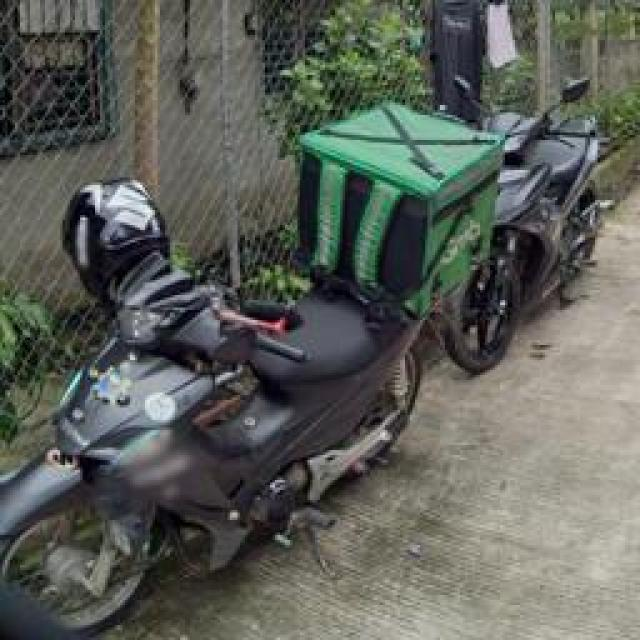Motor: (0, 178, 425, 638), (438, 78, 608, 375)
